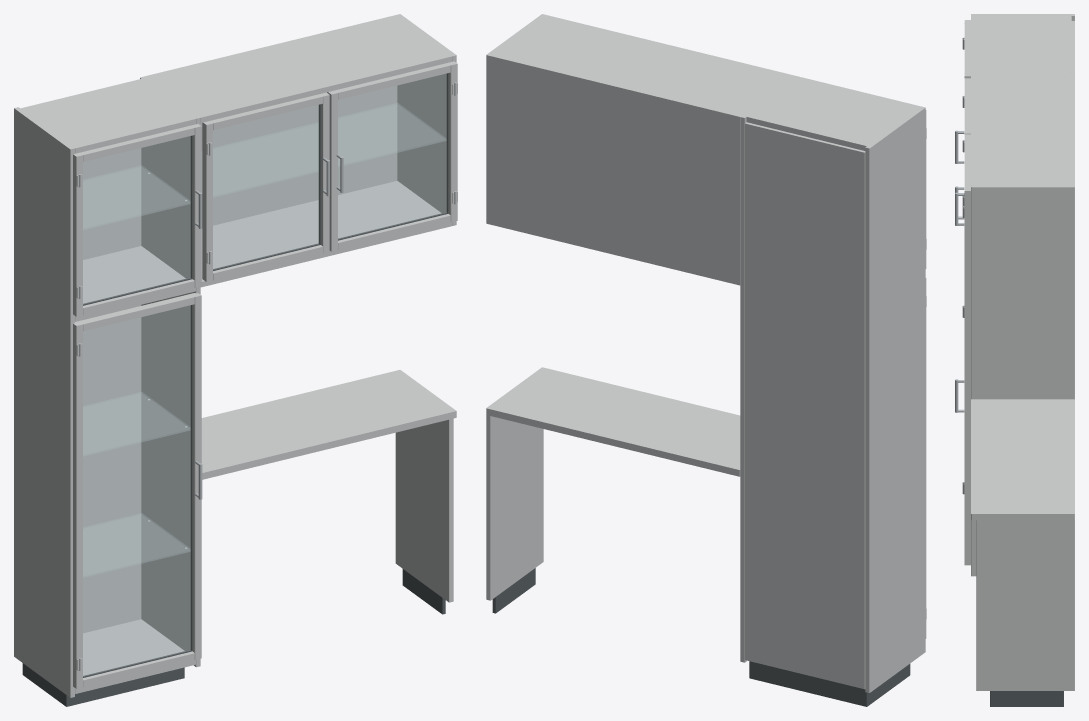
The model's file is white-glass-front-pantry-cabinet.glb.
3 renders of one model, left to right at view 1: azimuth 30°, elevation 25°; view 2: azimuth 150°, elevation 25°; view 3: azimuth 270°, elevation 25°, orthographic. The views are drawn at different scales.
Visible parts, largest first — view 1: Tall display door clear glazing, Tower left gable, Bridge top and bottom, Tower back panel, Tower right gable, Bridge back, Tower structural shelf, Upper tower door clear glazing, Overhead right door clear glazing, Overhead left door clear glazing, White niche countertop, Tower glass shelves (+13 smaller); view 2: Tower back panel, Bridge back, Tower left gable, White niche countertop, Bridge top and bottom, Counter right support, Tower structural shelf, Tower right gable, Recessed toe kick, Counter support recessed foot, Tall display door powder coated frame; view 3: Counter right support, Bridge right gable, White niche countertop, Bridge top and bottom, Tower right gable, Tower structural shelf, Tall display door powder coated frame, Overhead right door powder coated frame, Counter support recessed foot, Bridge back, Upper tower door powder coated frame, Overhead left door powder coated frame (+1 smaller).
Boxes of the visible parts, x1=… form: Tall display door clear glazing: x1=83, y1=305, x2=190, y2=676; Tower left gable: x1=14, y1=107, x2=74, y2=697; Bridge top and bottom: x1=146, y1=16, x2=451, y2=287; Tower back panel: x1=75, y1=148, x2=141, y2=633; Tower right gable: x1=140, y1=76, x2=200, y2=667; Bridge back: x1=144, y1=14, x2=401, y2=225; Tower structural shelf: x1=21, y1=79, x2=195, y2=693; Upper tower door clear glazing: x1=83, y1=136, x2=190, y2=303; Overhead right door clear glazing: x1=338, y1=74, x2=446, y2=238; Overhead left door clear glazing: x1=213, y1=105, x2=318, y2=269; White niche countertop: x1=201, y1=370, x2=456, y2=479; Tower glass shelves: x1=83, y1=166, x2=190, y2=577; Tower back panel: x1=745, y1=122, x2=865, y2=689; Bridge back: x1=486, y1=54, x2=741, y2=285; Tower left gable: x1=865, y1=106, x2=925, y2=692; White niche countertop: x1=486, y1=367, x2=740, y2=476; Bridge top and bottom: x1=493, y1=15, x2=795, y2=115; Counter right support: x1=486, y1=415, x2=543, y2=600; Tower structural shelf: x1=746, y1=77, x2=920, y2=150; Tower right gable: x1=740, y1=76, x2=800, y2=662; Recessed toe kick: x1=749, y1=661, x2=910, y2=706; Counter support recessed foot: x1=492, y1=568, x2=535, y2=613; Tall display door powder coated frame: x1=925, y1=278, x2=926, y2=638; Counter right support: x1=976, y1=520, x2=1074, y2=690; Bridge right gable: x1=971, y1=185, x2=1074, y2=343; White niche countertop: x1=971, y1=399, x2=1074, y2=520; Bridge top and bottom: x1=971, y1=72, x2=1071, y2=184; Tower right gable: x1=971, y1=70, x2=1074, y2=576; Tower structural shelf: x1=971, y1=16, x2=1071, y2=70; Tall display door powder coated frame: x1=964, y1=335, x2=970, y2=565; Overhead right door powder coated frame: x1=964, y1=134, x2=970, y2=335; Counter support recessed foot: x1=990, y1=691, x2=1063, y2=706; Bridge back: x1=1071, y1=72, x2=1074, y2=343; Upper tower door powder coated frame: x1=964, y1=20, x2=970, y2=78; Overhead left door powder coated frame: x1=964, y1=78, x2=970, y2=134.
Size of the model in its own units: 1.5 by 2.1 by 0.438.
